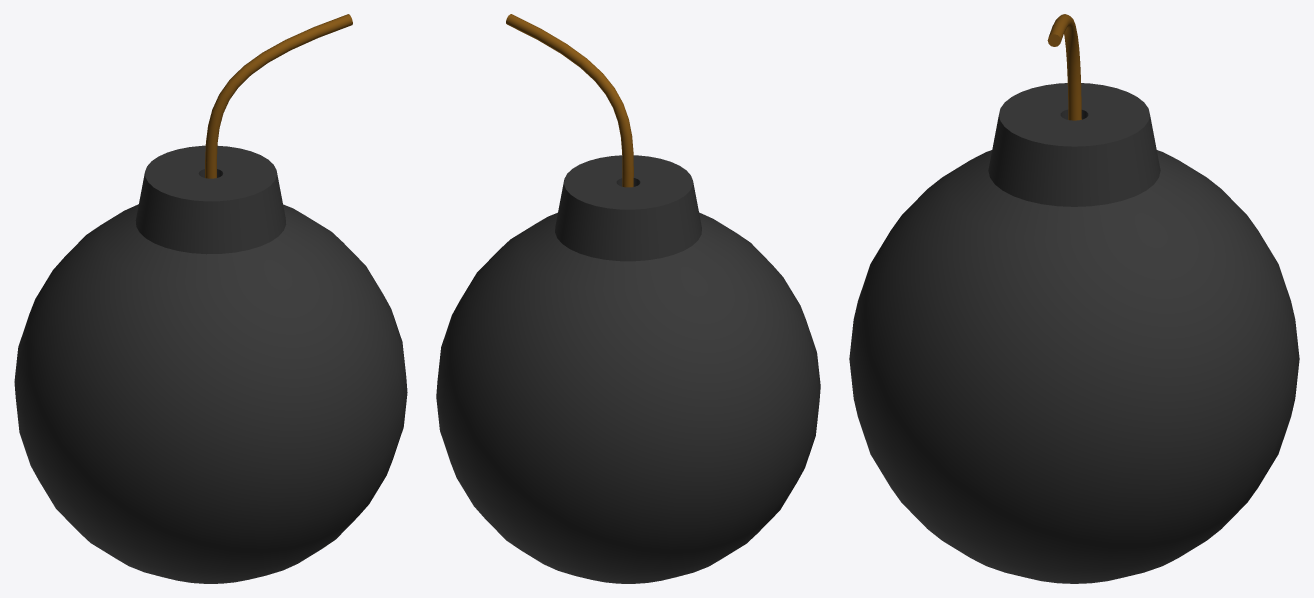
The model's file is Bomb.fbx.
3 renders of one model, left to right at view 1: azimuth 30°, elevation 25°; view 2: azimuth 150°, elevation 25°; view 3: azimuth 270°, elevation 25°, orthographic. The views are drawn at different scales.
Parts seen in each view (by area): view 1: Sphere, BezierCurve; view 2: Sphere, BezierCurve; view 3: Sphere, BezierCurve.
Part boxes in pixels (box(x1,y1,x2,y2)): Sphere: box(14, 145, 407, 583); BezierCurve: box(205, 14, 352, 178); Sphere: box(436, 155, 820, 583); BezierCurve: box(506, 14, 633, 187); Sphere: box(849, 83, 1299, 583); BezierCurve: box(1047, 14, 1081, 120).
Bounding box in the file's own units: 200 × 295 × 200.
